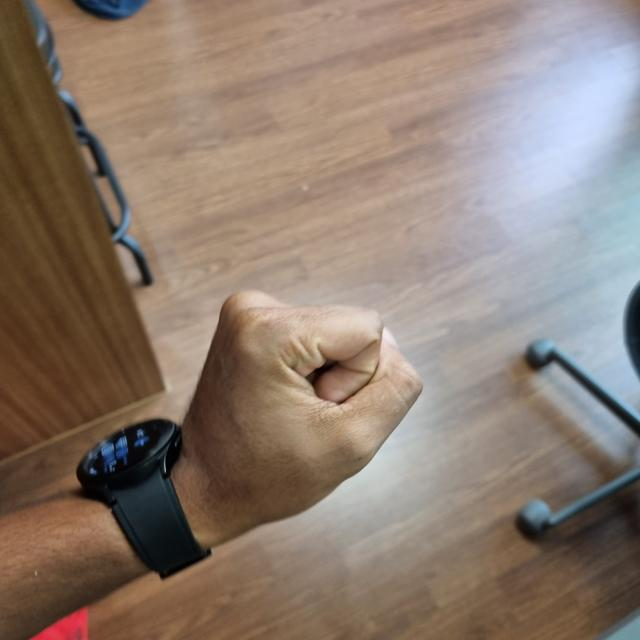Rock: (181, 292, 418, 528)
